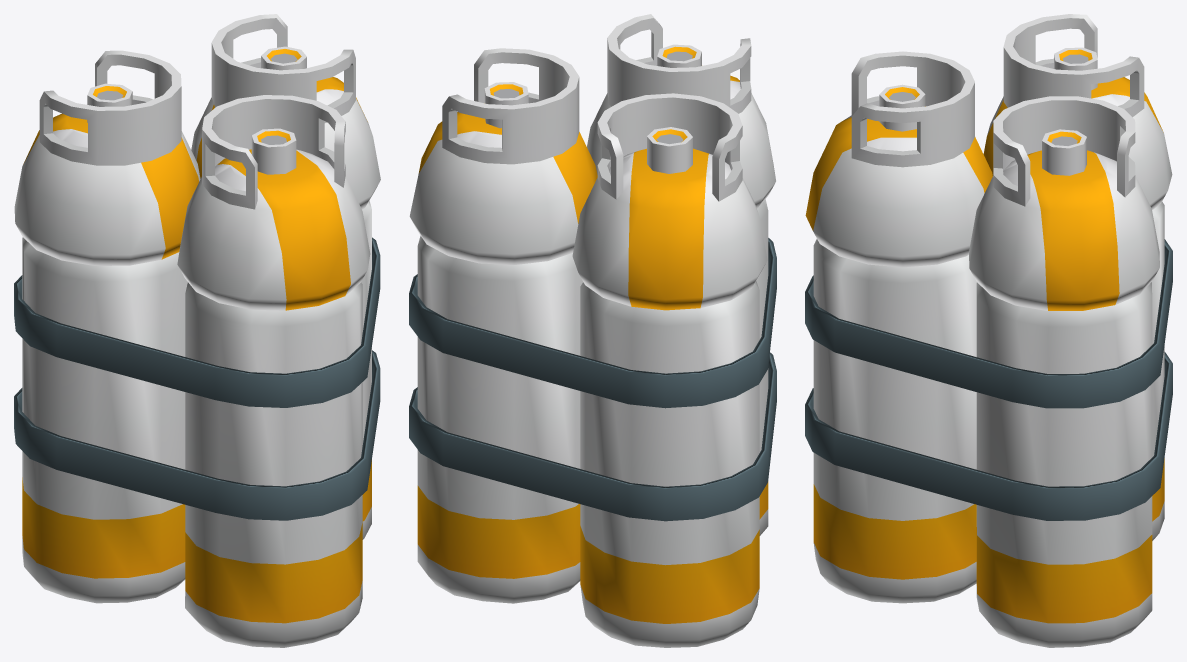
Rendered from Baloon_013.glb.
3 renders of one model, left to right at view 1: azimuth 30°, elevation 25°; view 2: azimuth 150°, elevation 25°; view 3: azimuth 270°, elevation 25°, orthographic.
Parts seen in each view (by area): view 1: Baloon_013; view 2: Baloon_013; view 3: Baloon_013.
Part boxes in pixels (x1,y1,x2,y2): Baloon_013: [14, 14, 380, 647]; Baloon_013: [409, 14, 776, 647]; Baloon_013: [805, 14, 1172, 647].
Size of the model in its own units: 0.7716 by 1.07 by 0.7329.
2 materials, 2 textured.
